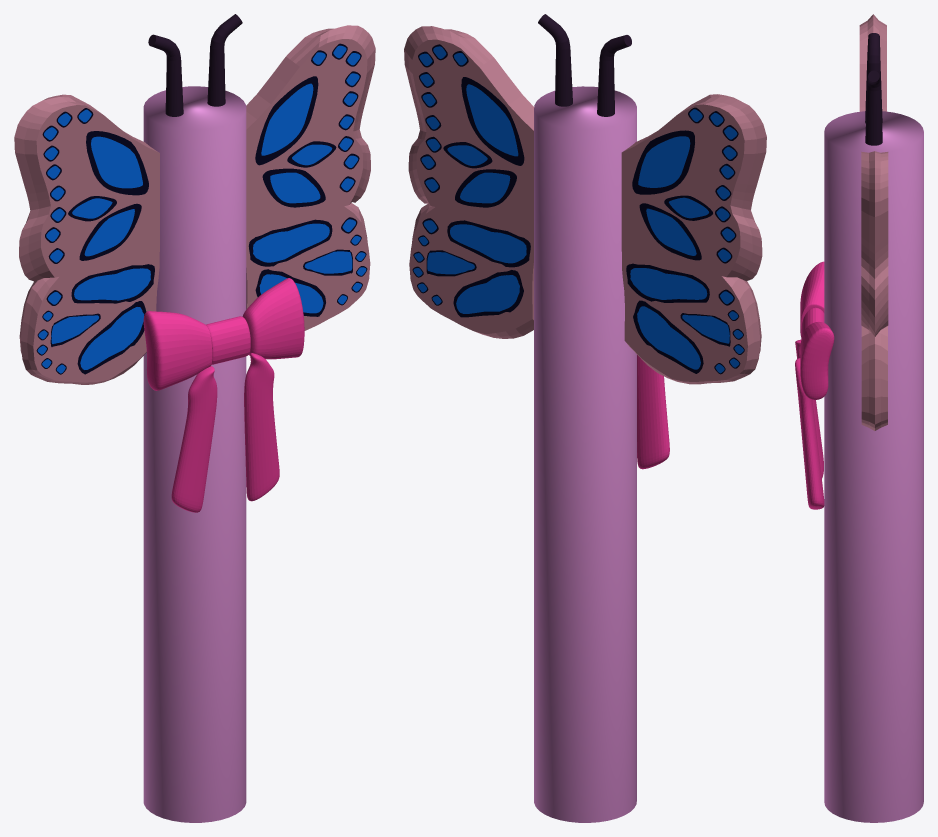
Rendered from Coquette.fbx.
3 renders of one model, left to right at view 1: azimuth 30°, elevation 25°; view 2: azimuth 150°, elevation 25°; view 3: azimuth 270°, elevation 25°, orthographic. The views are drawn at different scales.
Visible parts, largest first — view 1: Cylinder, Cube.007, Cube.002, Cube, Cube.003, Cube.001, Circle.072, Circle.009, Circle.075, Circle.012, Circle.076, Circle.085 (+8 smaller); view 2: Cylinder, Cube.002, Cube, Cube.003, Cube.001, Cube.007, Circle.030, Circle.051, Circle.033, Circle.054, Circle.055, Circle.034 (+8 smaller); view 3: Cylinder, Cube.007, Cube, Cube.001, Cube.002, Cylinder.001, Cylinder.002.
Part boxes in pixels (x1=…): Cylinder: x1=143, y1=86, x2=246, y2=822; Cube.007: x1=143, y1=278, x2=304, y2=512; Cube.002: x1=14, y1=94, x2=159, y2=281; Cube: x1=246, y1=25, x2=375, y2=229; Cube.003: x1=19, y1=252, x2=159, y2=384; Cube.001: x1=246, y1=203, x2=370, y2=330; Circle.072: x1=86, y1=131, x2=148, y2=195; Circle.009: x1=255, y1=76, x2=318, y2=165; Circle.075: x1=71, y1=264, x2=154, y2=303; Circle.012: x1=248, y1=219, x2=332, y2=266; Circle.076: x1=77, y1=301, x2=146, y2=374; Circle.085: x1=79, y1=203, x2=141, y2=260; Cylinder: x1=534, y1=86, x2=636, y2=822; Cube.002: x1=621, y1=94, x2=766, y2=281; Cube: x1=404, y1=26, x2=534, y2=230; Cube.003: x1=622, y1=252, x2=761, y2=384; Cube.001: x1=409, y1=203, x2=533, y2=338; Cube.007: x1=637, y1=355, x2=669, y2=469; Circle.030: x1=461, y1=77, x2=524, y2=165; Circle.051: x1=632, y1=130, x2=694, y2=194; Circle.033: x1=447, y1=220, x2=530, y2=267; Circle.054: x1=626, y1=263, x2=709, y2=302; Circle.055: x1=633, y1=300, x2=703, y2=373; Circle.034: x1=453, y1=270, x2=523, y2=317; Cylinder: x1=824, y1=111, x2=923, y2=822; Cube.007: x1=795, y1=261, x2=834, y2=509; Cube: x1=861, y1=151, x2=888, y2=336; Cube.001: x1=861, y1=326, x2=887, y2=430; Cube.002: x1=859, y1=14, x2=886, y2=111; Cylinder.001: x1=865, y1=70, x2=882, y2=145; Cylinder.002: x1=865, y1=33, x2=882, y2=123.
Size of the model in its own units: 457 by 936 by 146.
